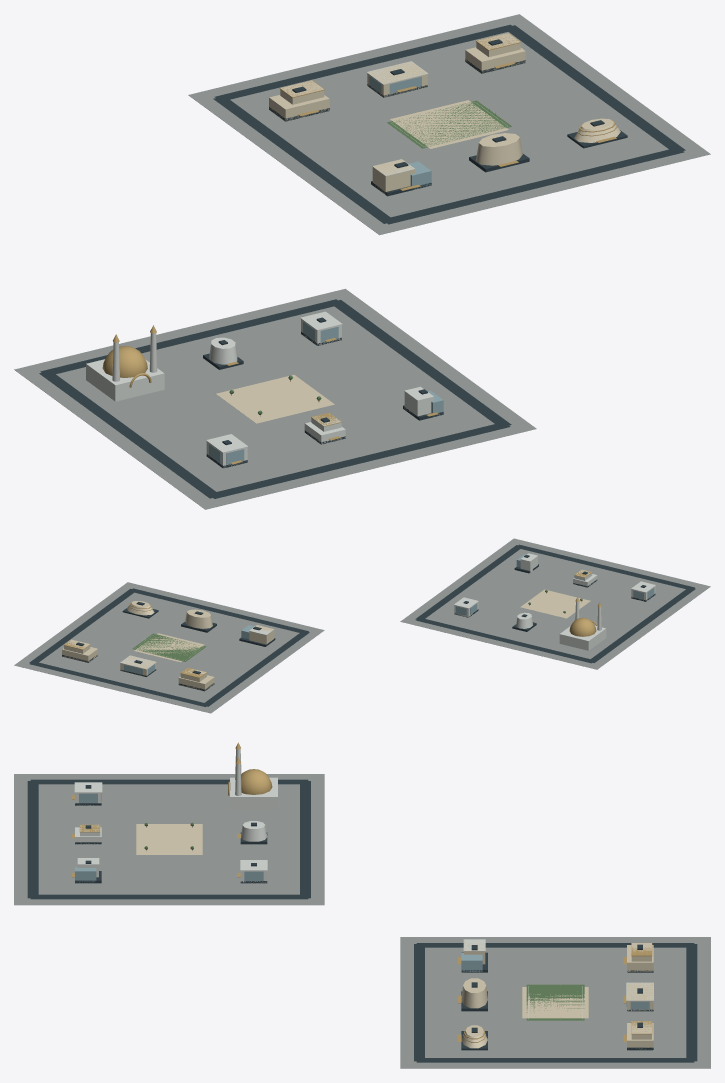
File: GC-TILE-05-02.glb
3 renders of one model, top to bottom at view 1: azimuth 30°, elevation 25°; view 2: azimuth 150°, elevation 25°; view 3: azimuth 270°, elevation 25°, orthographic. The views are drawn at different scales.
Visible parts, largest first — view 1: GC-TILE-05-02-paving, GC-TILE-05-02-dark, GC-TILE-05-02-ivory, GC-TILE-05-02-white, GC-TILE-05-02-gold, GC-TILE-05-02-field, GC-TILE-05-02-glass; view 2: GC-TILE-05-02-paving, GC-TILE-05-02-dark, GC-TILE-05-02-ivory, GC-TILE-05-02-white, GC-TILE-05-02-field, GC-TILE-05-02-gold, GC-TILE-05-02-glass; view 3: GC-TILE-05-02-paving, GC-TILE-05-02-dark, GC-TILE-05-02-ivory, GC-TILE-05-02-white, GC-TILE-05-02-gold, GC-TILE-05-02-field, GC-TILE-05-02-glass.
Boxes of the visible parts, <box> form: GC-TILE-05-02-paving: <box>14,14,710,509</box>; GC-TILE-05-02-dark: <box>39,24,685,498</box>; GC-TILE-05-02-ivory: <box>216,33,620,423</box>; GC-TILE-05-02-white: <box>86,61,507,468</box>; GC-TILE-05-02-gold: <box>102,33,617,464</box>; GC-TILE-05-02-field: <box>387,100,511,148</box>; GC-TILE-05-02-glass: <box>209,75,443,464</box>; GC-TILE-05-02-paving: <box>14,538,710,713</box>; GC-TILE-05-02-dark: <box>29,544,695,706</box>; GC-TILE-05-02-ivory: <box>62,589,590,690</box>; GC-TILE-05-02-white: <box>120,553,655,669</box>; GC-TILE-05-02-field: <box>132,633,206,661</box>; GC-TILE-05-02-gold: <box>64,569,601,677</box>; GC-TILE-05-02-glass: <box>124,554,654,674</box>; GC-TILE-05-02-paving: <box>14,774,710,1068</box>; GC-TILE-05-02-dark: <box>27,779,697,1062</box>; GC-TILE-05-02-ivory: <box>136,824,653,1050</box>; GC-TILE-05-02-white: <box>74,749,653,1019</box>; GC-TILE-05-02-gold: <box>71,742,652,1042</box>; GC-TILE-05-02-field: <box>526,984,584,1020</box>; GC-TILE-05-02-glass: <box>75,793,649,1009</box>.
Size of the model in its own units: 758 by 61.18 by 758.
